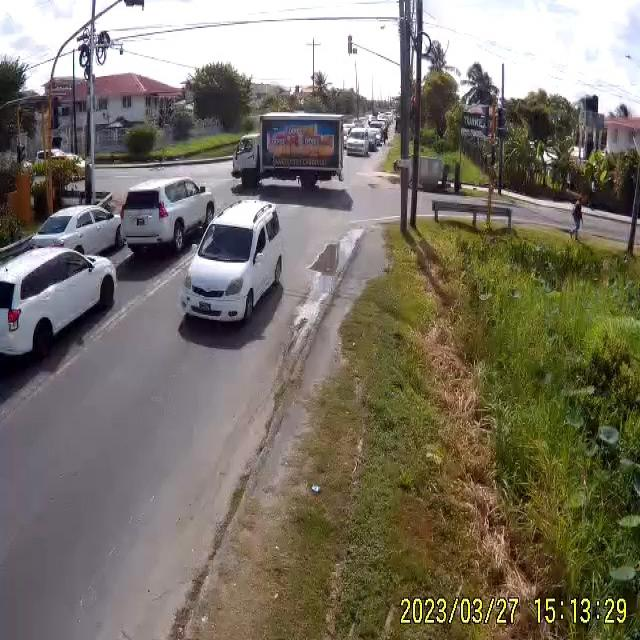car: (1, 240, 119, 379), (181, 200, 285, 324), (120, 175, 218, 259), (32, 205, 123, 255), (344, 134, 367, 155)
person: (570, 200, 584, 241)
truck: (232, 114, 347, 192)
